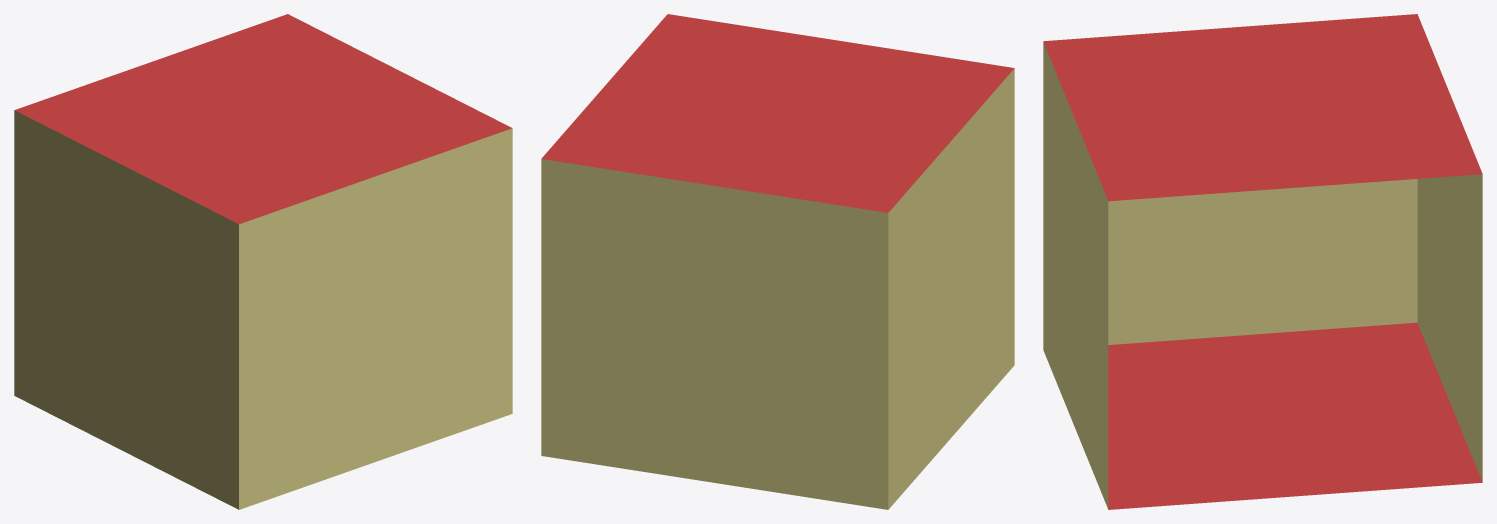
3 views of the same model, side by side, from view 1: azimuth 30°, elevation 25°; view 2: azimuth 150°, elevation 25°; view 3: azimuth 270°, elevation 25° (orthographic). The views are drawn at different scales.
Size of the model in its own units: 6.56 by 6.51 by 5.04.
